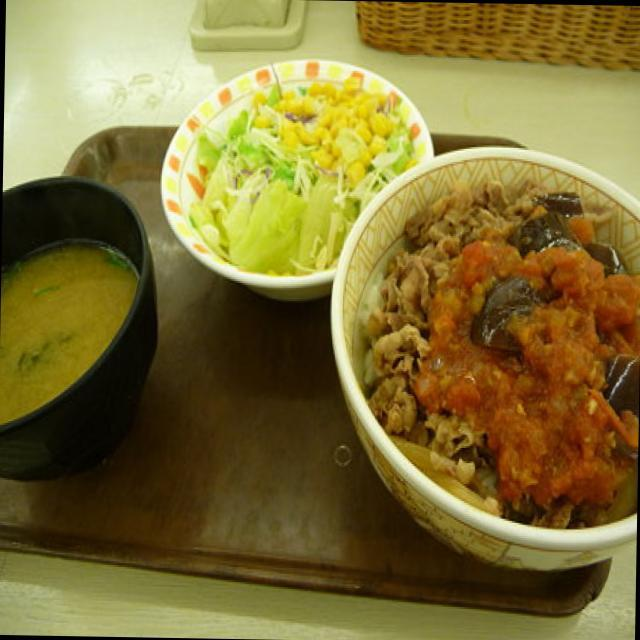Green Salad: (201, 77, 405, 272)
